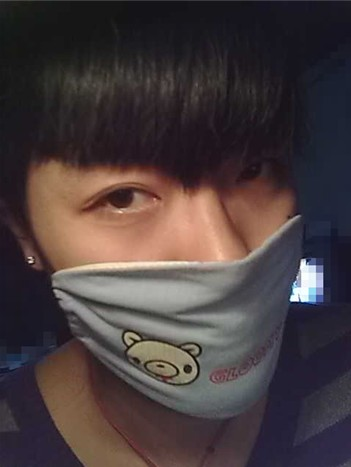face_mask: (32, 20, 307, 422)
